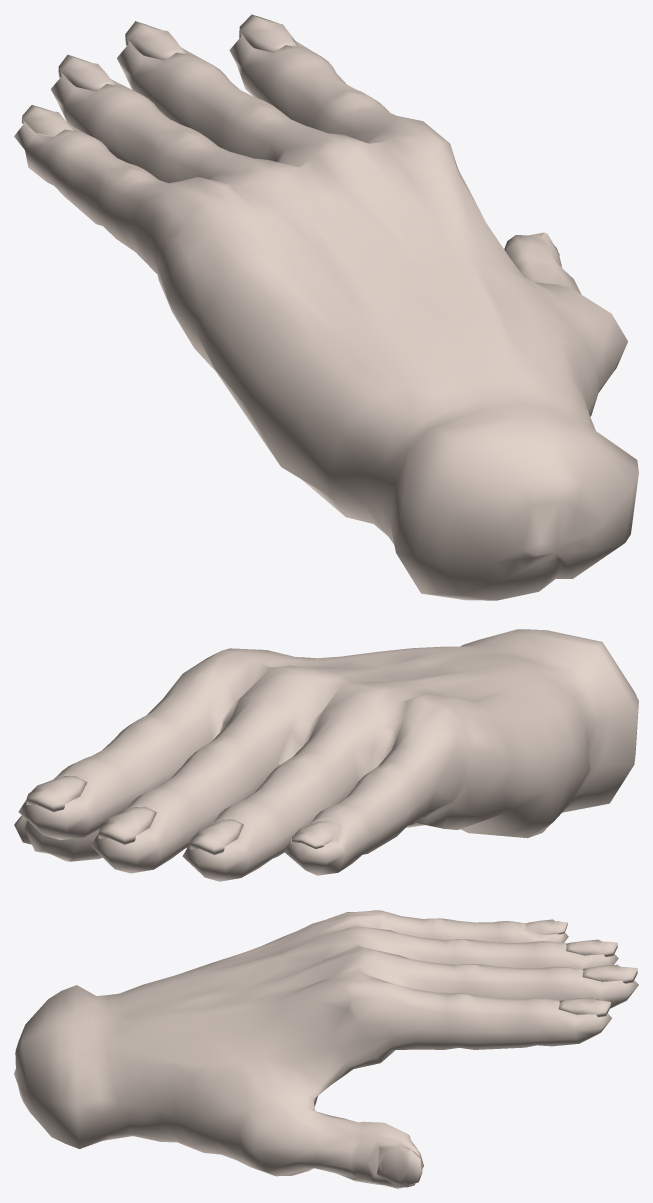
The model's file is Hand.L.dae.
The picture shows the model from 3 angles, top to bottom: view 1: azimuth 30°, elevation 25°; view 2: azimuth 150°, elevation 25°; view 3: azimuth 270°, elevation 25°; orthographic projection. The views are drawn at different scales.
Parts seen in each view (by area): view 1: Hand_L; view 2: Hand_L; view 3: Hand_L.
Part boxes in pixels (x1=…): Hand_L: x1=14, y1=14, x2=638, y2=600; Hand_L: x1=14, y1=629, x2=638, y2=881; Hand_L: x1=14, y1=910, x2=638, y2=1188.
Bounding box in the file's own units: 0.1275 × 0.2257 × 0.0772.
